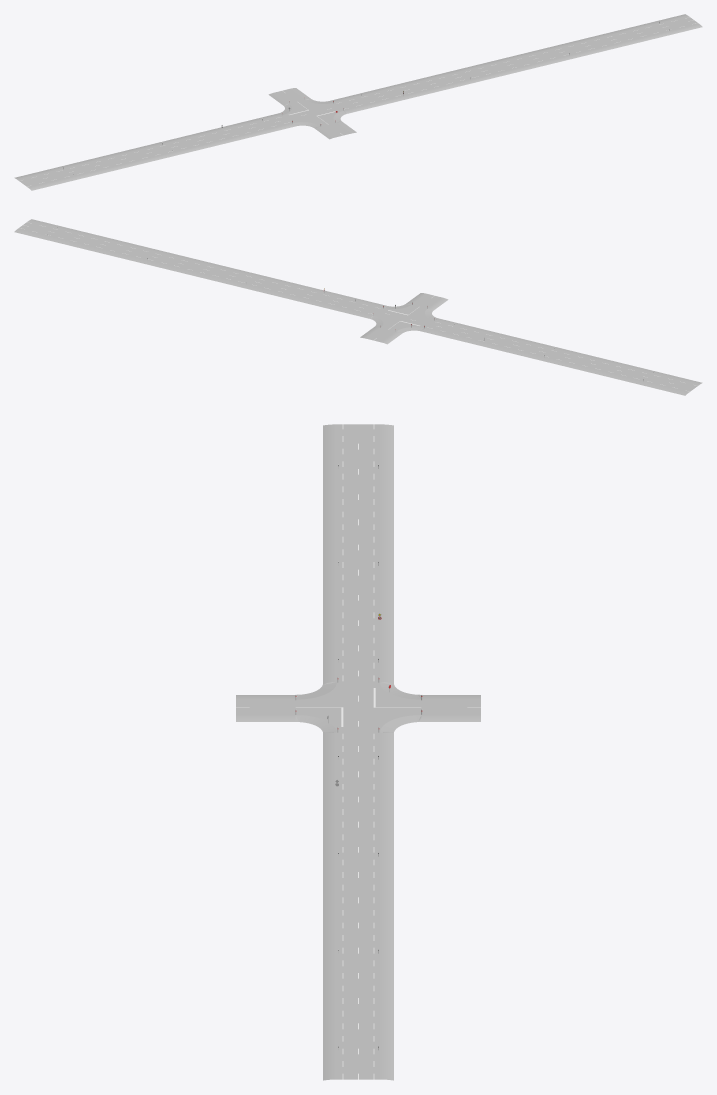
3 renders of one model, top to bottom at view 1: azimuth 30°, elevation 25°; view 2: azimuth 150°, elevation 25°; view 3: azimuth 270°, elevation 25°, orthographic. The views are drawn at different scales.
Visible parts, largest first — view 1: SketchUp (×9); view 2: SketchUp (×9); view 3: SketchUp (×9).
Boxes of the visible parts, left/top/right/bottom form: SketchUp (×9): left=14, top=14, right=702, bottom=190; SketchUp (×9): left=14, top=219, right=702, bottom=395; SketchUp (×9): left=236, top=424, right=480, bottom=1080.
Size of the model in its own units: 13307 by 2104 by 112.
